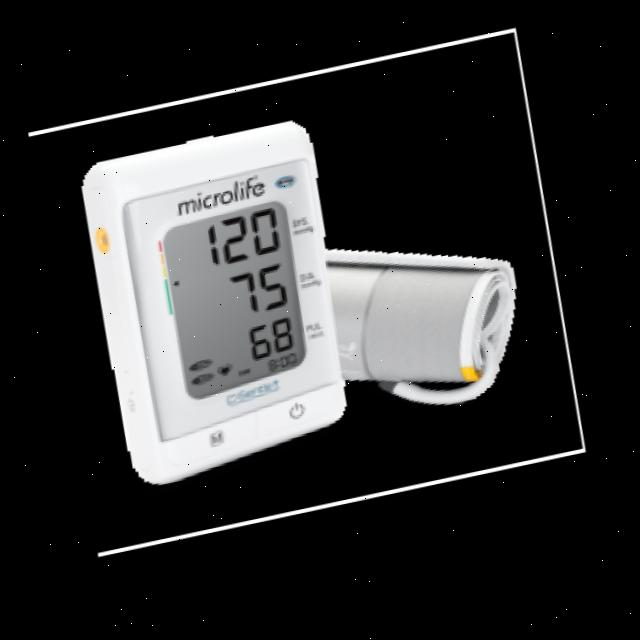dia: (214, 252, 306, 327)
pul: (234, 310, 309, 366)
ssd: (158, 201, 314, 402)
sys: (195, 197, 294, 274)
